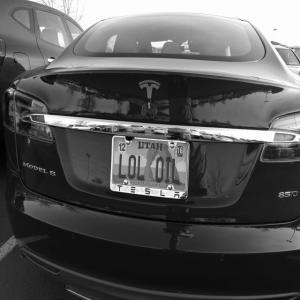Plate: (110, 136, 190, 199)
